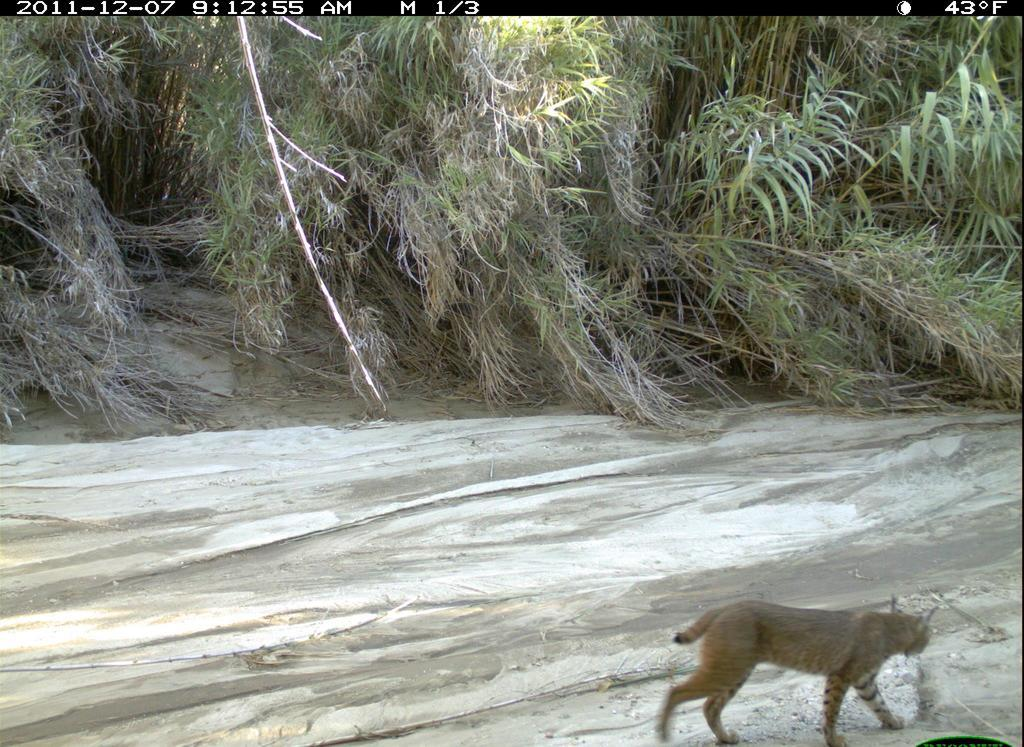bobcat: (649, 589, 941, 743)
